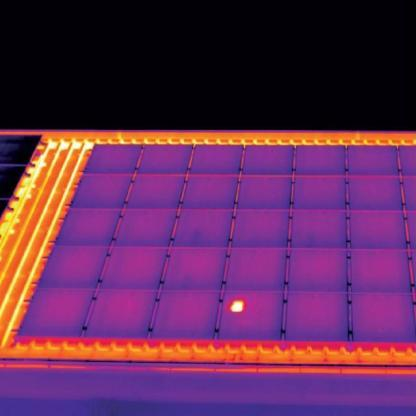anomaly: (227, 297, 247, 315)
